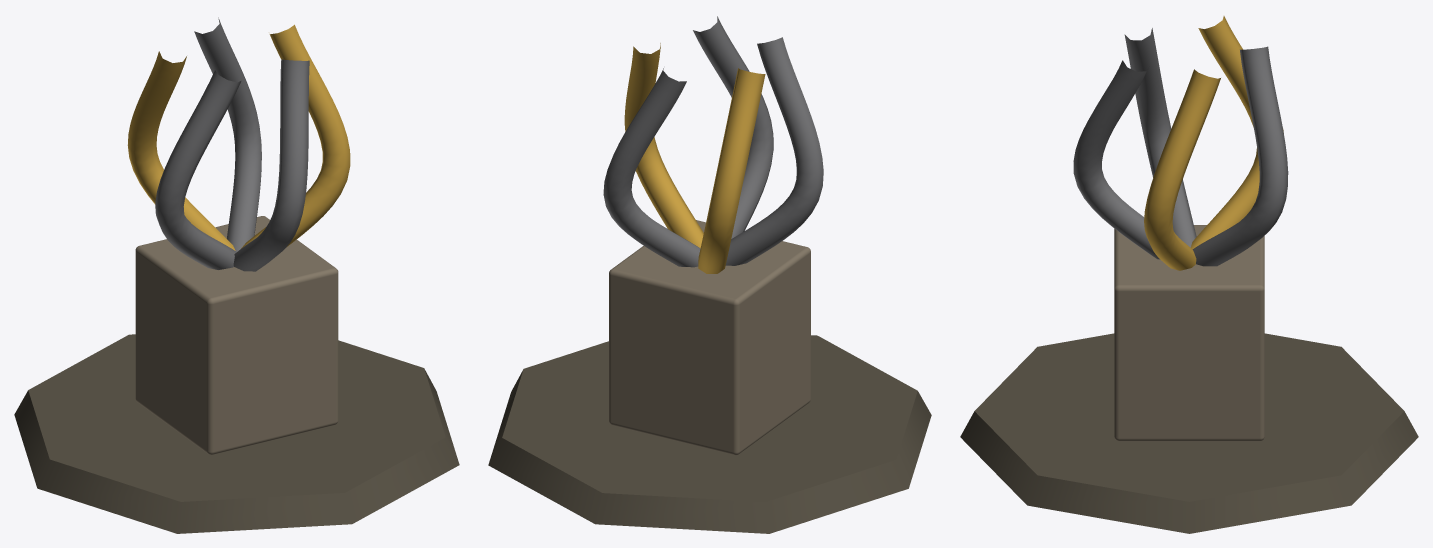
Rendered from sculpture.glb.
3 renders of one model, left to right at view 1: azimuth 30°, elevation 25°; view 2: azimuth 150°, elevation 25°; view 3: azimuth 270°, elevation 25°, orthographic.
Parts seen in each view (by area): view 1: sculpture-farm-stone-dark, sculpture-farm-stone, sculpture-farm-metal, sculpture-farm-gold; view 2: sculpture-farm-stone-dark, sculpture-farm-stone, sculpture-farm-metal, sculpture-farm-gold; view 3: sculpture-farm-stone-dark, sculpture-farm-stone, sculpture-farm-metal, sculpture-farm-gold.
Boxes of the visible parts, x1,y1,x2,y2 form: sculpture-farm-stone-dark: [14, 334, 459, 533]; sculpture-farm-stone: [135, 216, 338, 454]; sculpture-farm-metal: [155, 17, 309, 271]; sculpture-farm-gold: [127, 24, 350, 250]; sculpture-farm-stone-dark: [488, 335, 931, 533]; sculpture-farm-stone: [609, 220, 810, 455]; sculpture-farm-metal: [603, 16, 823, 267]; sculpture-farm-gold: [624, 43, 765, 273]; sculpture-farm-stone-dark: [960, 333, 1418, 533]; sculpture-farm-stone: [1114, 225, 1264, 441]; sculpture-farm-metal: [1073, 28, 1288, 266]; sculpture-farm-gold: [1144, 16, 1283, 270].
Size of the model in its own units: 3.2 by 3.04 by 3.2.
